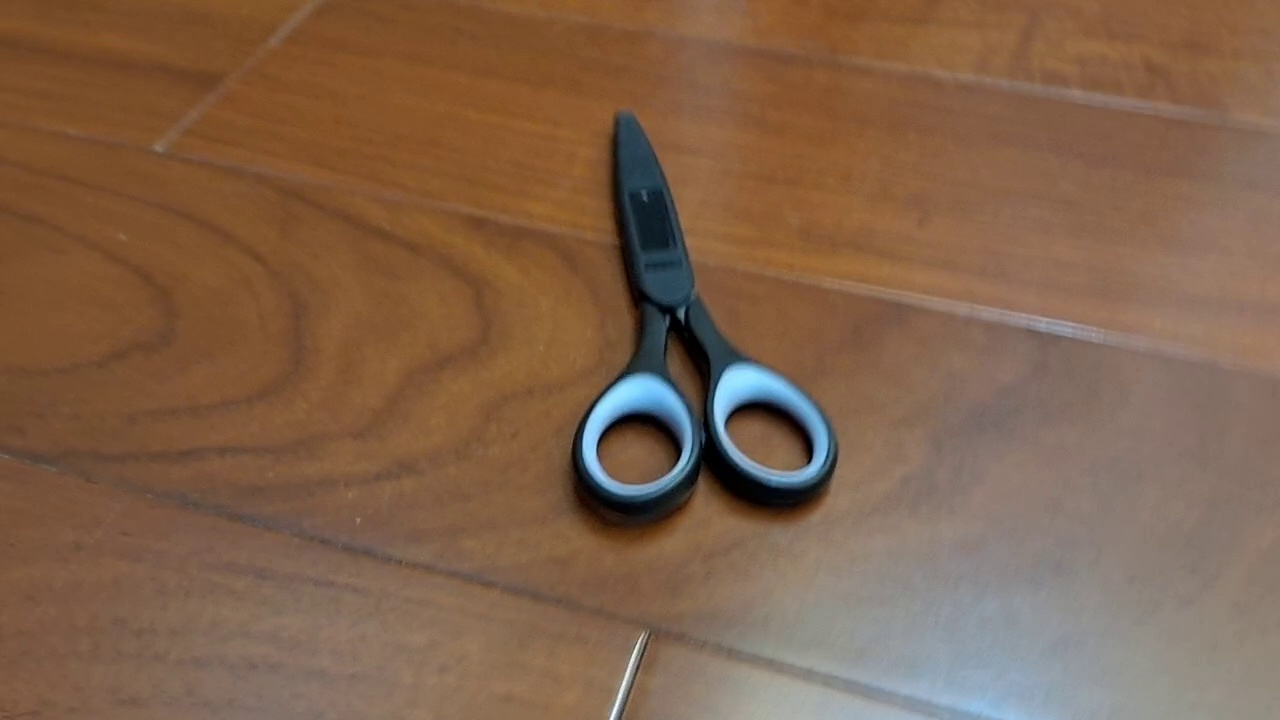scissors: (569, 108, 839, 525)
